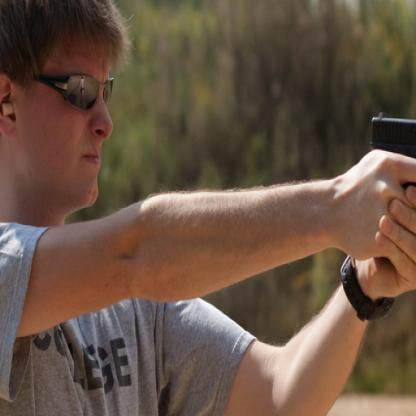gun: (367, 110, 415, 200)
